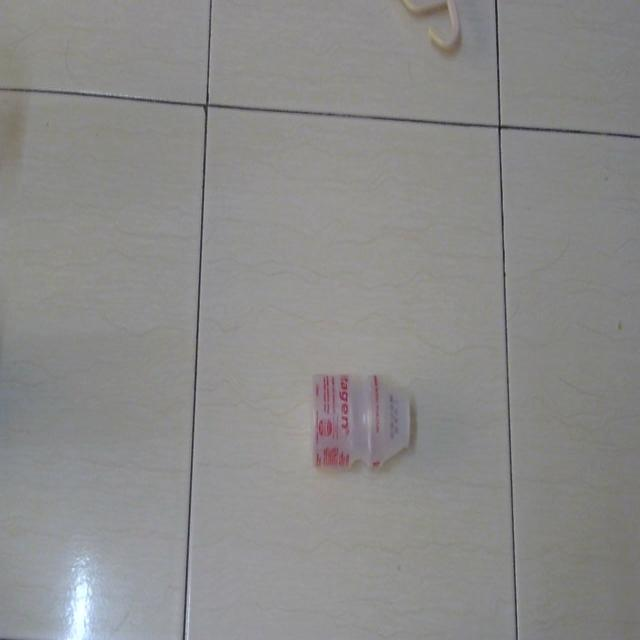plastic_laydown_0rotation: (307, 361, 416, 485)
